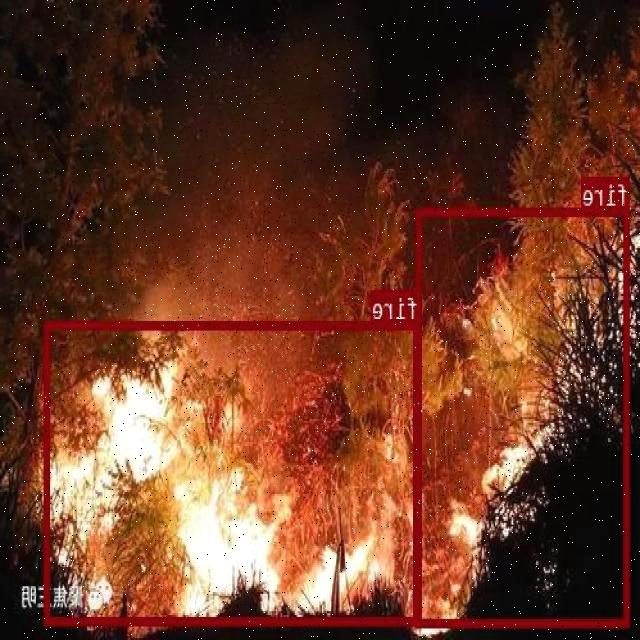fire: (46, 320, 420, 624), (417, 207, 630, 626)
